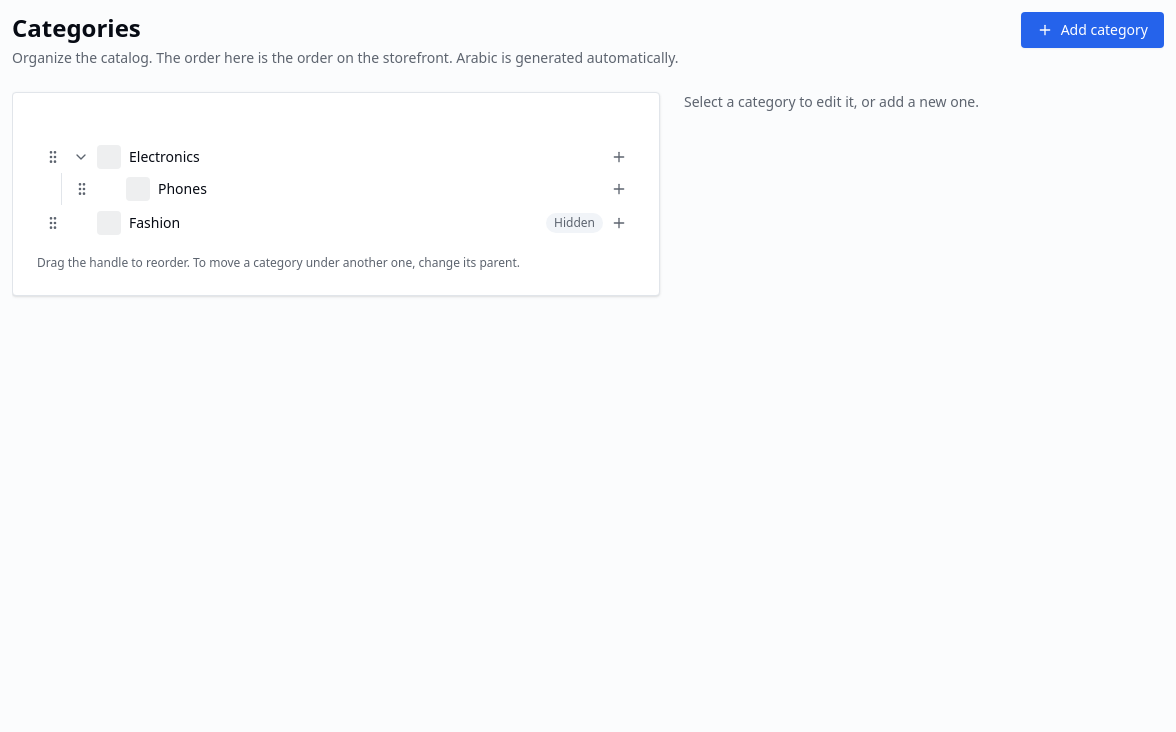
Test: Categories page › parent options exclude the category itself and its subtree; Arabic preview shown
This screenshot has width=1176, height=732.
Click the button "Electronics": (164, 156) [125,147,603,167]
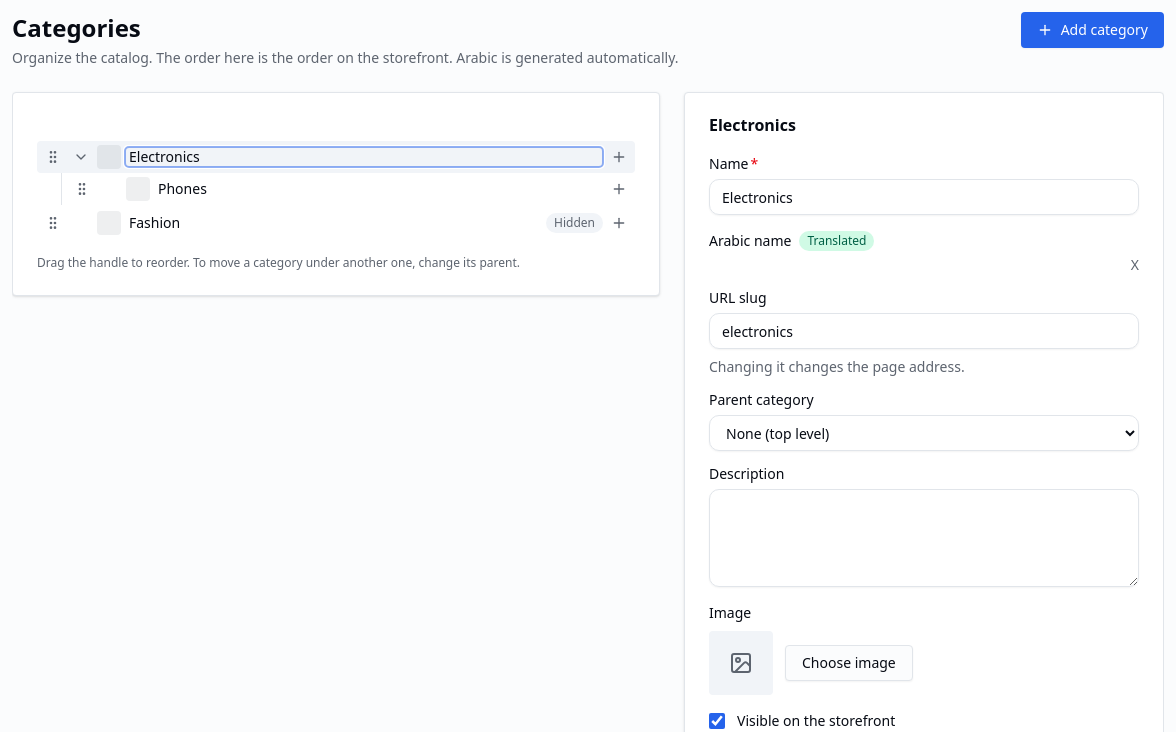
Check: the text "Arabic name" is shown, box [709,231,791,250]
Check: the text "Translated" is shown, box [799,231,874,251]
